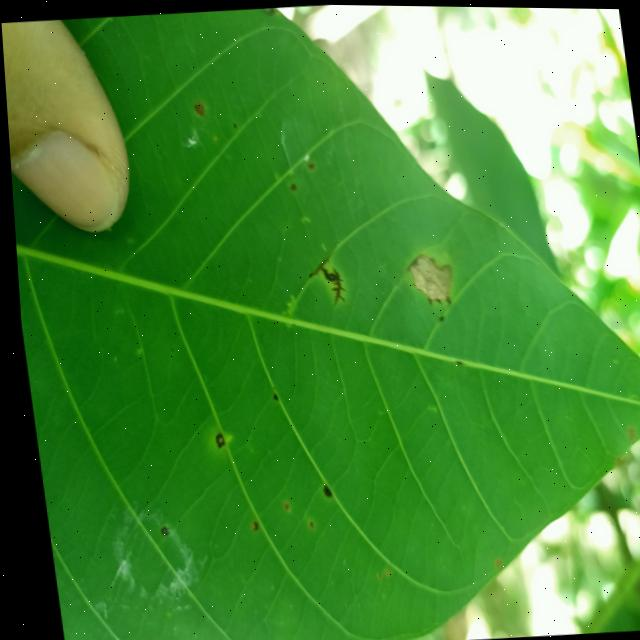Colletotrichum: (209, 431, 219, 448), (315, 482, 326, 495), (152, 524, 161, 536), (267, 391, 273, 399)
Corynespora: (303, 254, 344, 307)
Leaf-Blight: (402, 250, 449, 300)
